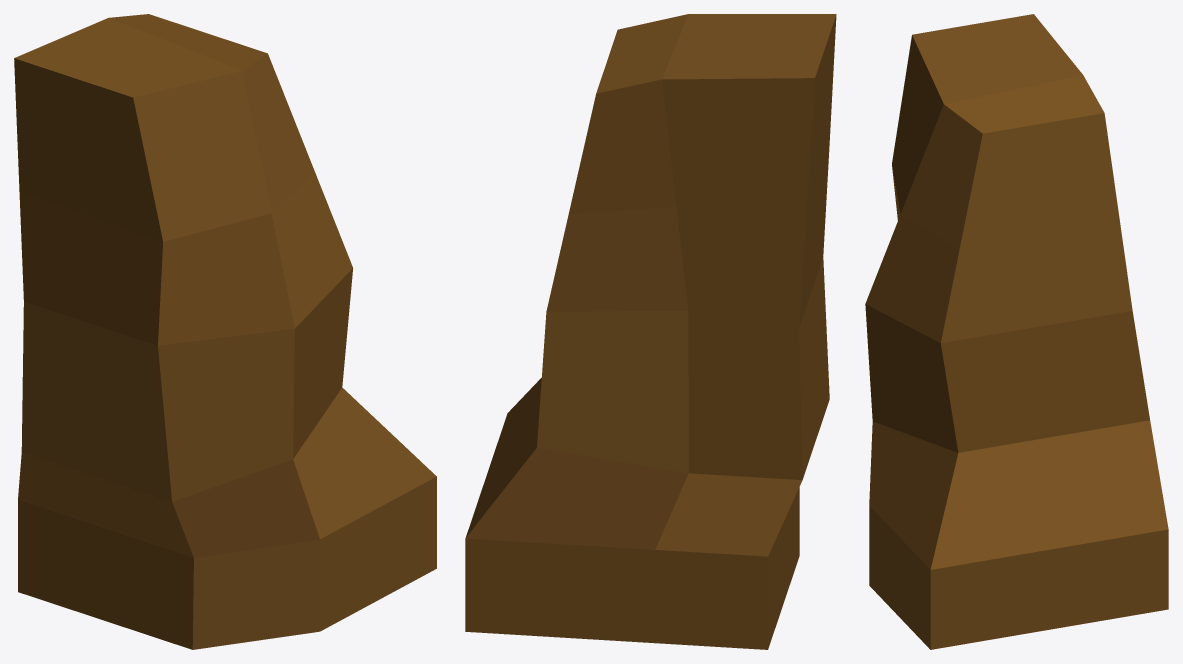
File: rock04.fbx
The picture shows the model from 3 angles, left to right: view 1: azimuth 30°, elevation 25°; view 2: azimuth 150°, elevation 25°; view 3: azimuth 270°, elevation 25°; orthographic projection. The views are drawn at different scales.
Parts seen in each view (by area): view 1: Cube.019; view 2: Cube.019; view 3: Cube.019.
Part boxes in pixels (<box>): Cube.019: <box>14,14,436,649</box>; Cube.019: <box>465,14,836,649</box>; Cube.019: <box>865,14,1168,649</box>.
Size of the model in its own units: 2354 by 3440 by 1961.
